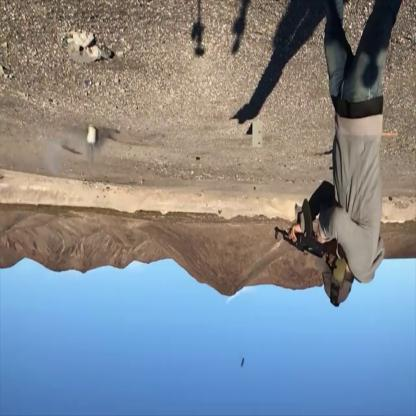long weapon: (269, 197, 345, 268)
